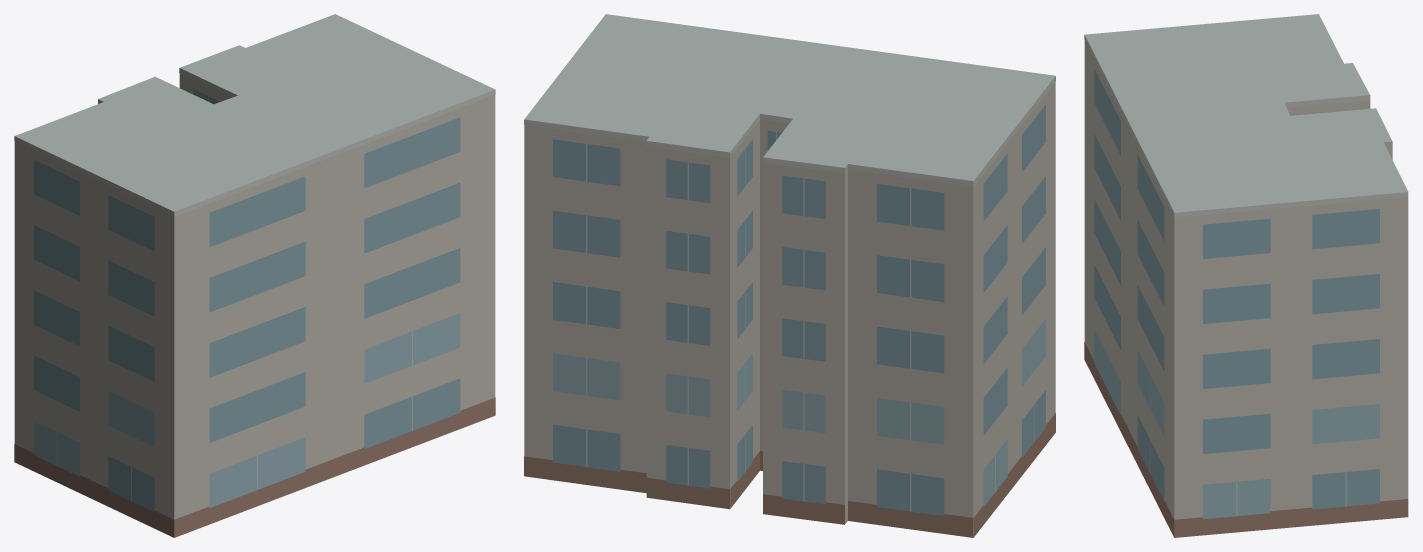
File: survey-upis-32696655.glb
The picture shows the model from 3 angles, left to right: view 1: azimuth 30°, elevation 25°; view 2: azimuth 150°, elevation 25°; view 3: azimuth 270°, elevation 25°; orthographic projection. The views are drawn at different scales.
Parts seen in each view (by area): view 1: survey-upis-32696655.tmp; view 2: survey-upis-32696655.tmp; view 3: survey-upis-32696655.tmp.
Boxes of the visible parts, x1,y1,x2,y2 form: survey-upis-32696655.tmp: (14, 14, 495, 537); survey-upis-32696655.tmp: (524, 14, 1055, 537); survey-upis-32696655.tmp: (1084, 14, 1408, 537).
Size of the model in its own units: 20.72 by 15.8 by 14.28.
